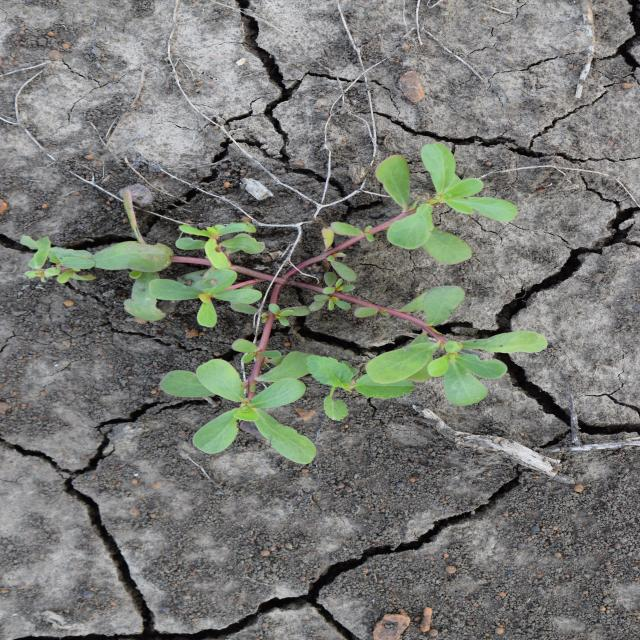Purslane: (18, 139, 551, 467)
